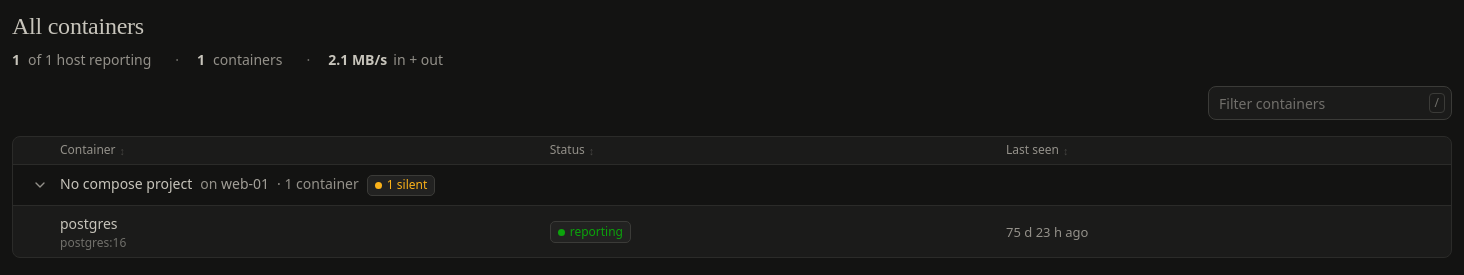
FleetPage stat figures as controls › returns to the hosts list from the hosts-reporting figure
Click the link "1 of 1 host reporting" at (82, 60), box [12,49,151,70]
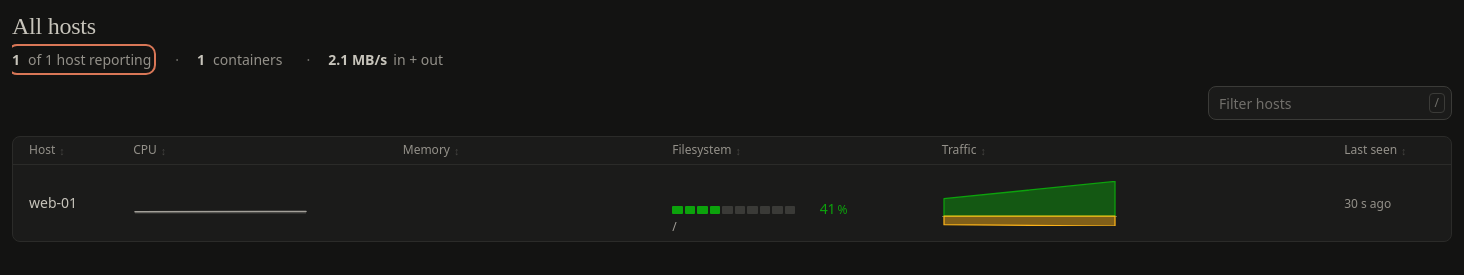
Result: the search field with placeholder "Filter hosts" is shown at [1208,86,1452,120]
